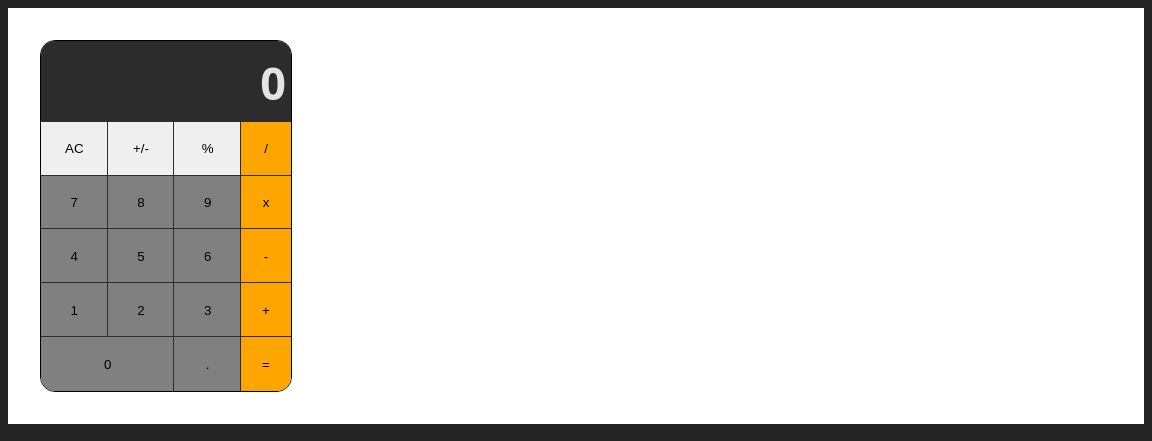
Test: user interacts with calculator › user clicks numbers which is then displayed on the calculator
Click the button "1" at (74, 310), box [41,283,108,337]
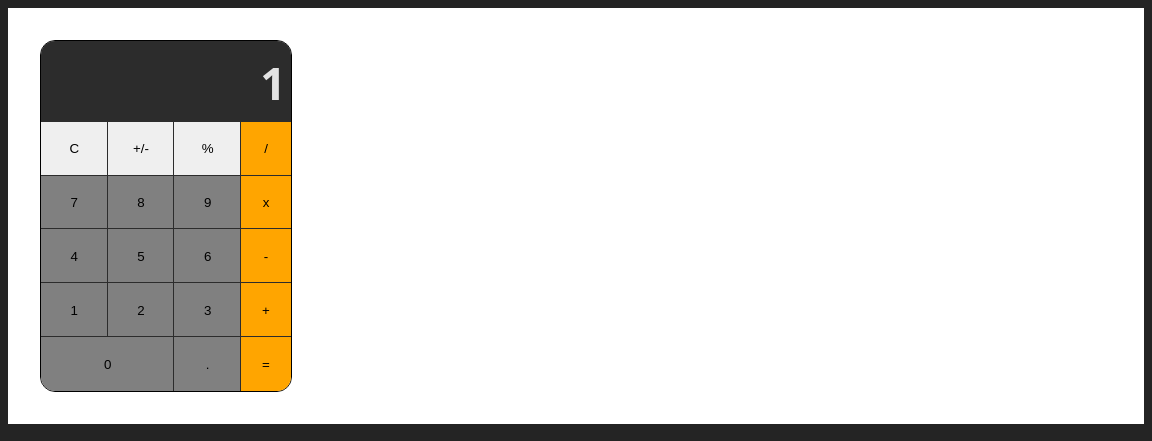
Click the button "2" at (141, 310), box [108,283,174,337]
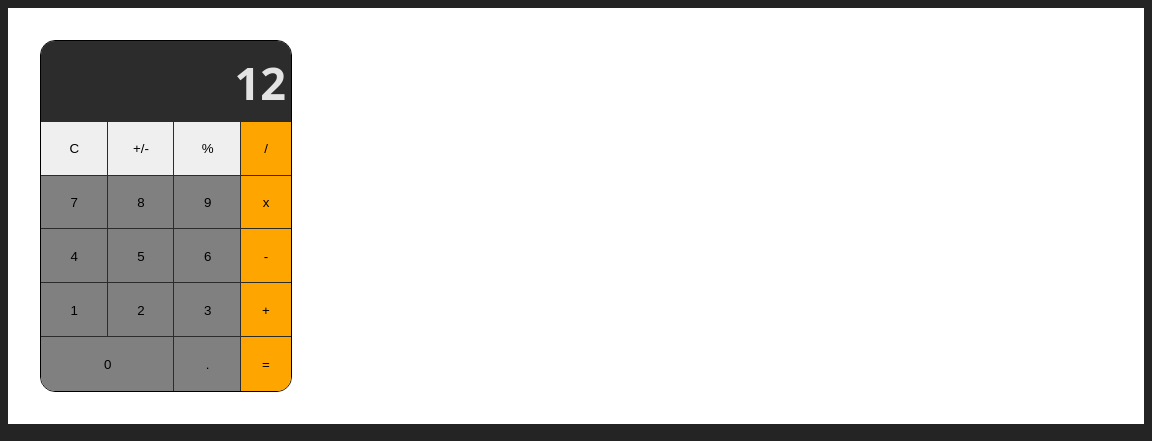
Expected: the heading reads "12", [234,52,286,113]
